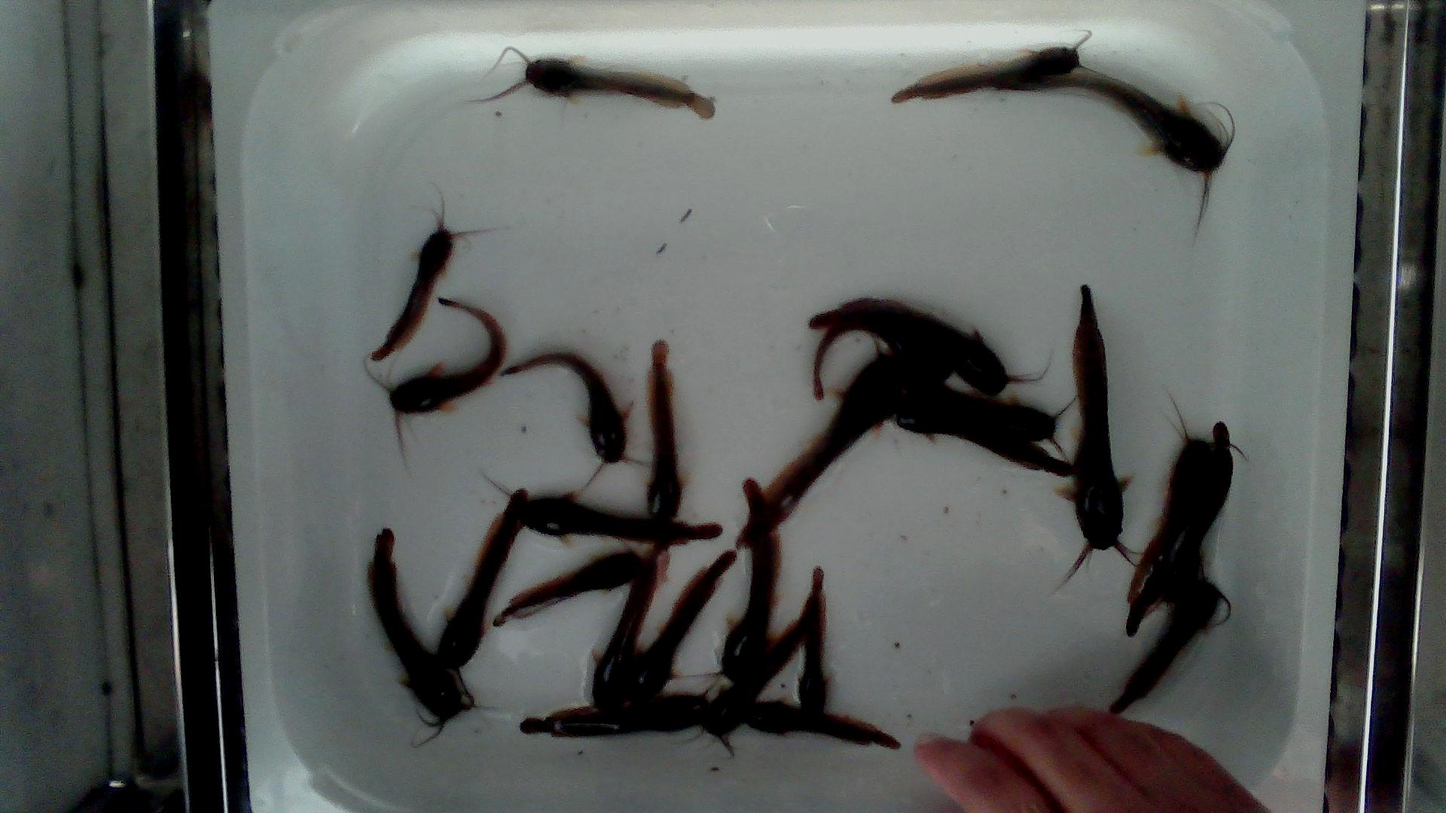lele: (996, 71, 1237, 228), (738, 363, 905, 550), (362, 297, 505, 459), (367, 530, 476, 741), (1064, 284, 1139, 582), (371, 189, 495, 366), (817, 297, 1045, 393), (674, 477, 781, 681), (674, 601, 809, 755), (505, 353, 651, 484), (880, 358, 1071, 456), (476, 45, 715, 118), (482, 473, 721, 545), (1115, 566, 1231, 710), (1128, 437, 1212, 633), (892, 385, 1076, 474), (624, 550, 734, 698), (441, 488, 527, 663), (891, 35, 1090, 103), (1166, 419, 1235, 597), (592, 546, 669, 704), (814, 313, 947, 397), (494, 553, 639, 625), (517, 692, 708, 738), (740, 705, 899, 746), (649, 343, 683, 521), (801, 565, 826, 713)
